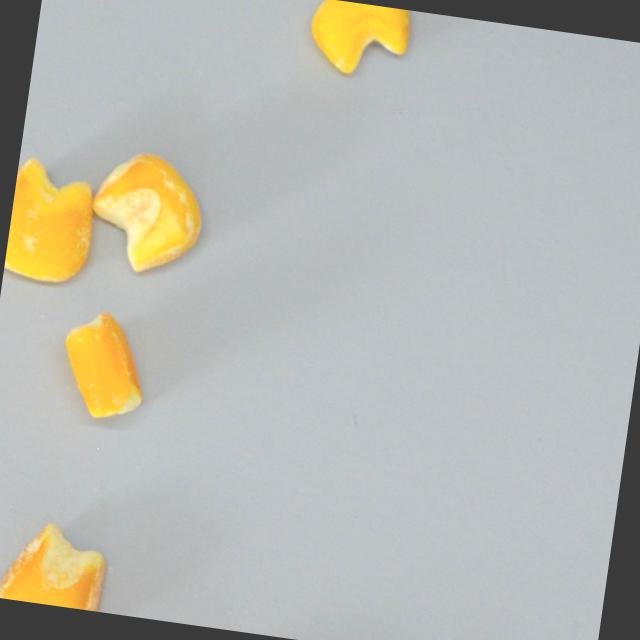no_canjicado: (302, 0, 416, 83)
pelicula: (83, 144, 210, 279), (3, 152, 100, 286), (0, 514, 109, 612), (66, 311, 141, 420)
